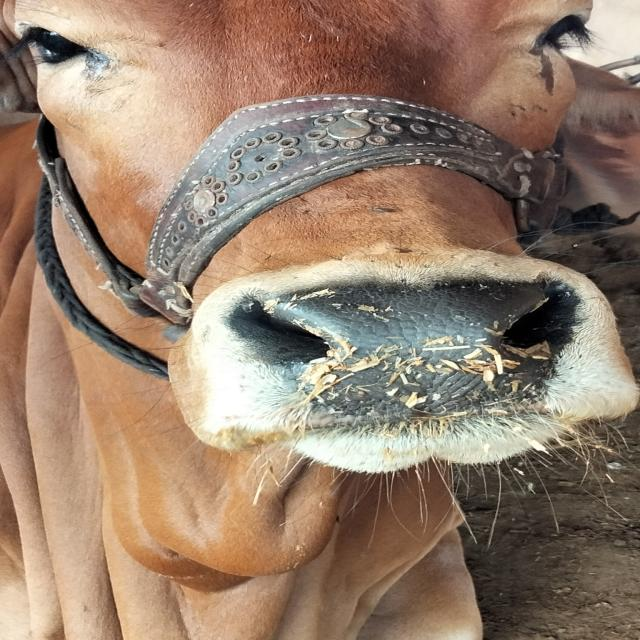muzzles: (212, 267, 594, 435)
